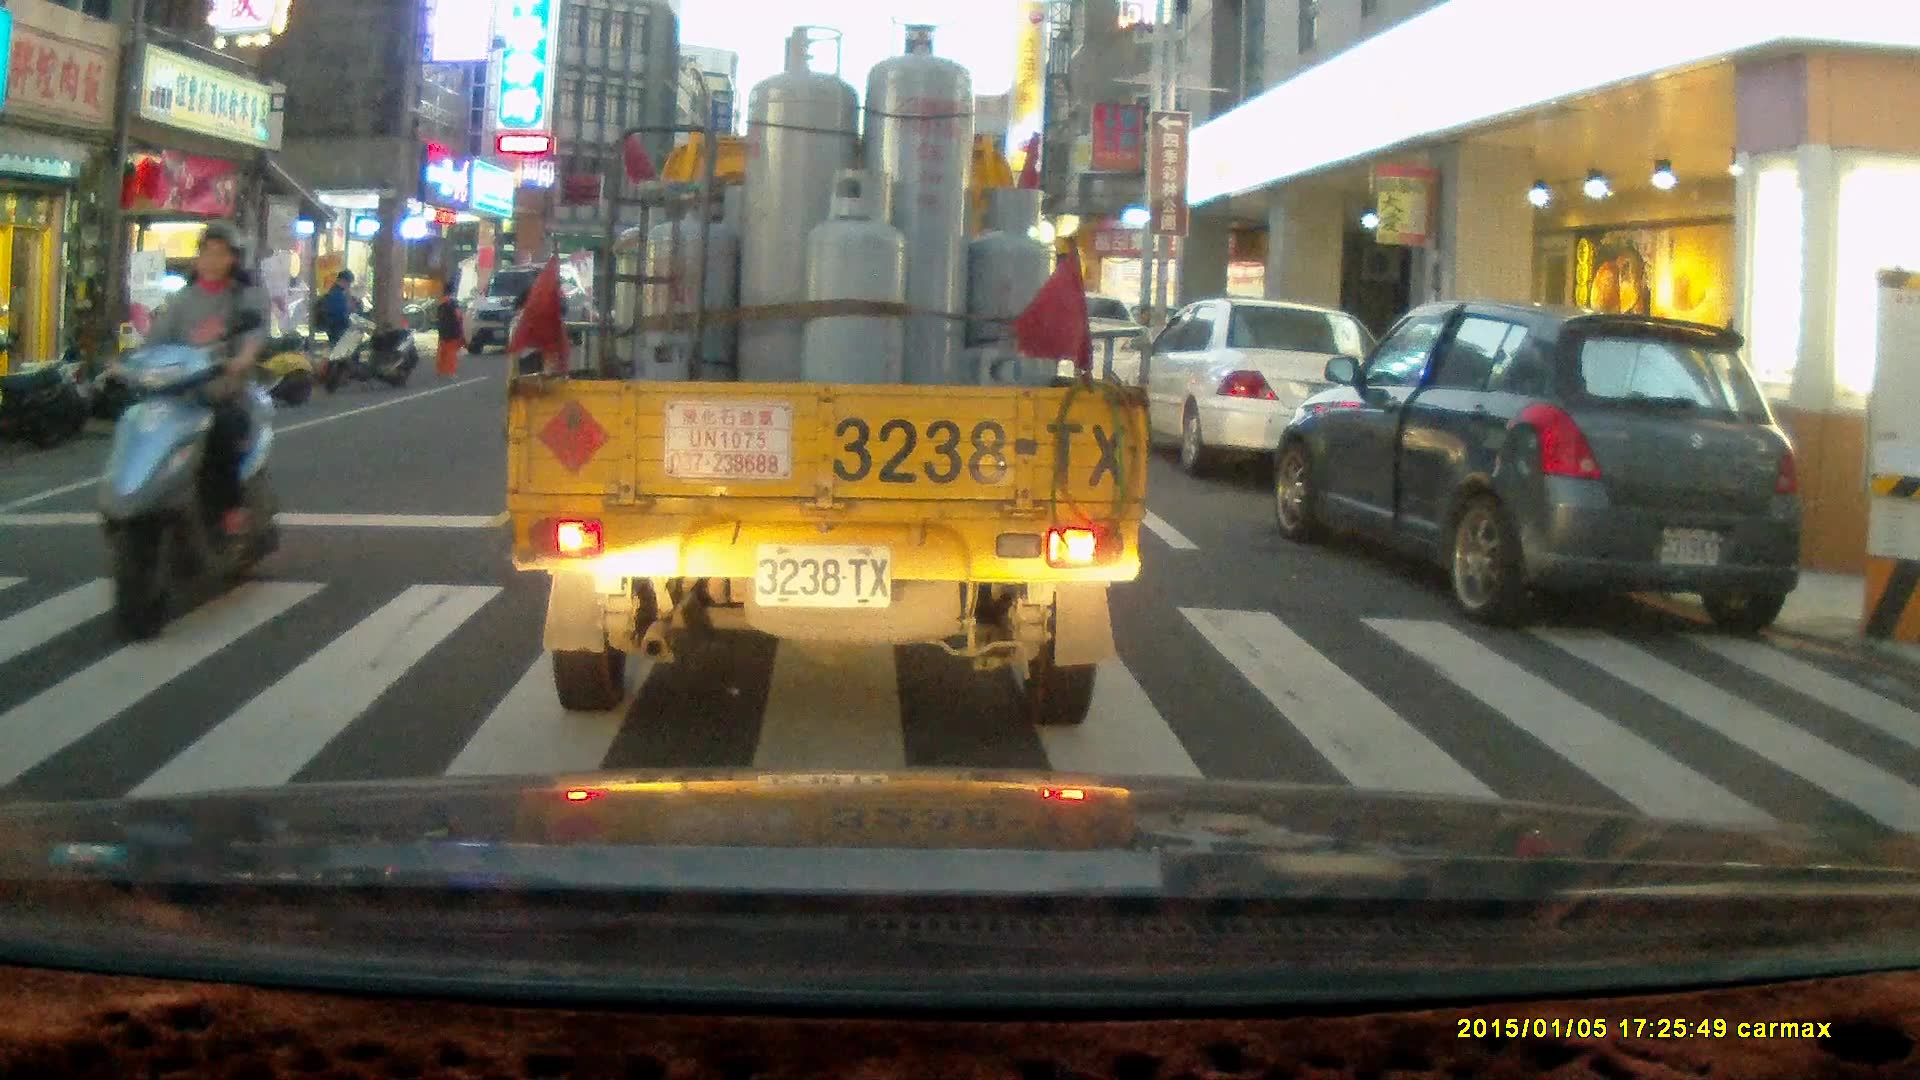pedestrian: (321, 267, 357, 381), (431, 277, 471, 375)
rider: (94, 215, 284, 646)
vehicle: (519, 62, 1136, 720), (1276, 304, 1813, 637), (1136, 300, 1376, 481), (1026, 295, 1160, 413), (462, 269, 584, 363)
